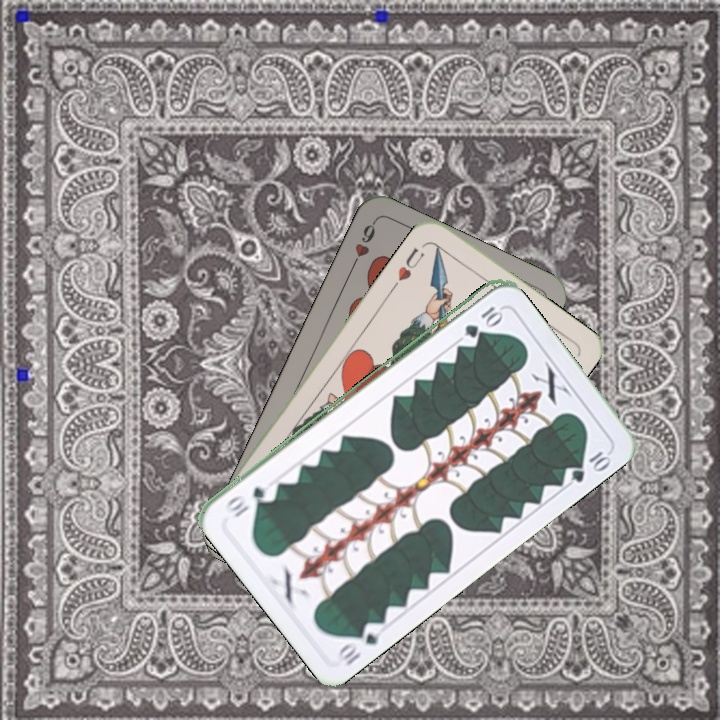G10: (334, 617, 386, 668), (460, 302, 503, 339)
H9: (346, 217, 378, 273)
HU: (389, 243, 428, 291)
